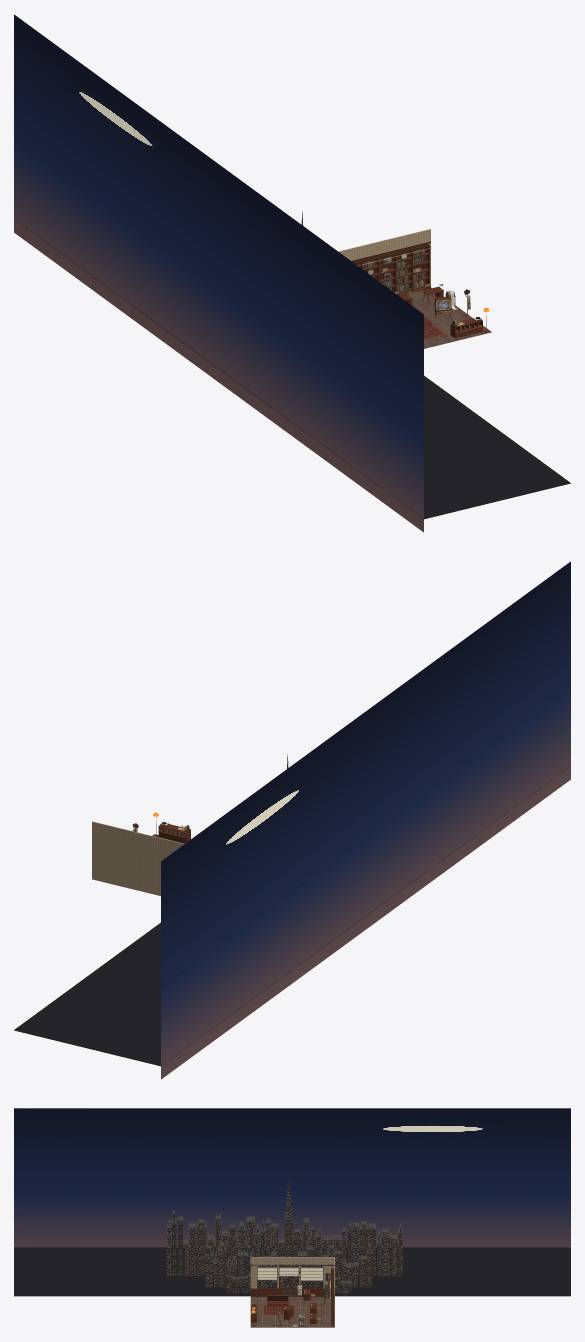
The model's file is office-v29c.glb.
The picture shows the model from 3 angles, top to bottom: view 1: azimuth 30°, elevation 25°; view 2: azimuth 150°, elevation 25°; view 3: azimuth 270°, elevation 25°; orthographic projection. The views are drawn at different scales.
Visible parts, largest first — view 1: CITY | merged (lite), OFFICE STATIC | merged (lite); view 2: CITY | merged (lite), OFFICE STATIC | merged (lite); view 3: CITY | merged (lite), OFFICE STATIC | merged (lite).
Boxes of the visible parts, bbox=[...] form: CITY | merged (lite): bbox=[14, 14, 570, 532]; OFFICE STATIC | merged (lite): bbox=[338, 229, 491, 348]; CITY | merged (lite): bbox=[14, 561, 570, 1079]; OFFICE STATIC | merged (lite): bbox=[92, 821, 184, 895]; CITY | merged (lite): bbox=[14, 1108, 570, 1296]; OFFICE STATIC | merged (lite): bbox=[250, 1257, 334, 1327].
Size of what is drawn, in the model's own units: 27.35 by 23.5 by 80.
Materials: 98 (56 with a texture image).
